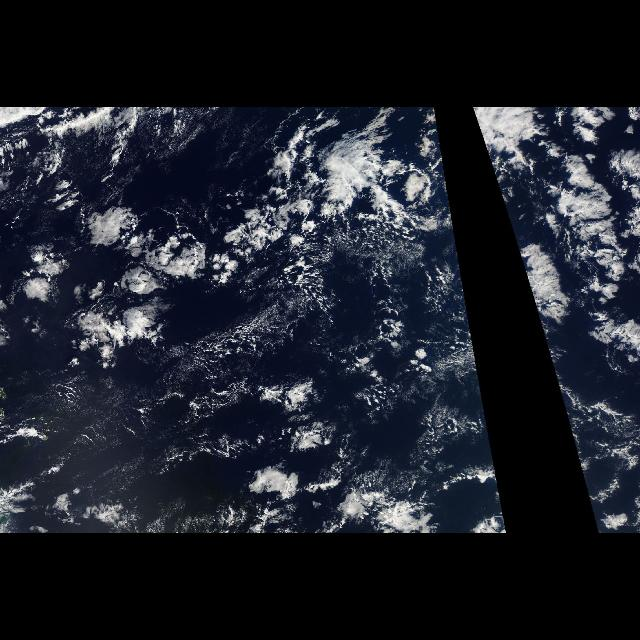Flower: (8, 172, 230, 374)
